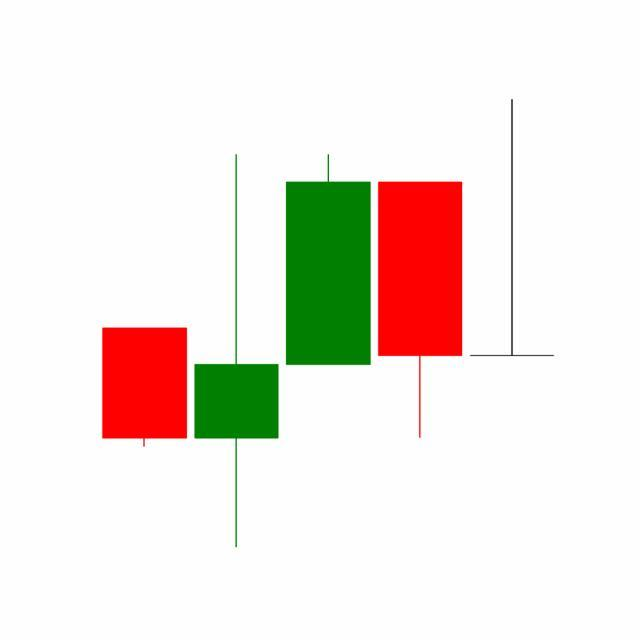Gravestone Doji: (466, 97, 559, 359)
